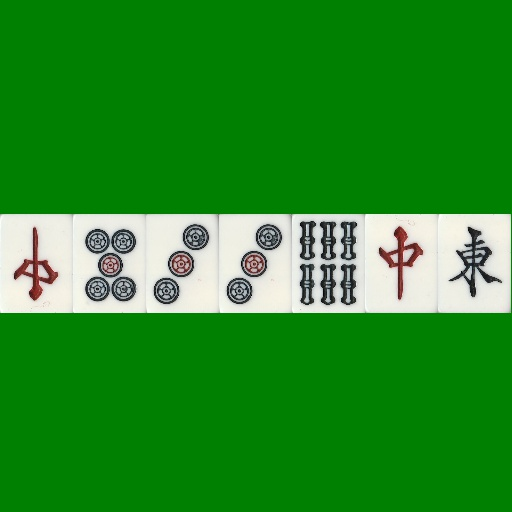3p: (146, 214, 219, 313), (219, 214, 292, 313)
5p: (73, 214, 146, 313)
6s: (292, 214, 365, 313)
east: (438, 214, 511, 313)
tyun: (0, 214, 73, 313), (365, 214, 438, 313)
